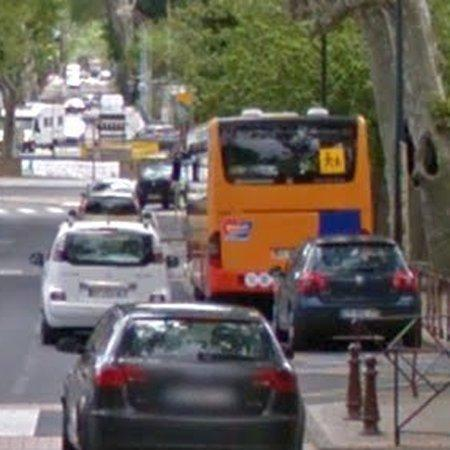buses: (182, 113, 374, 314)
